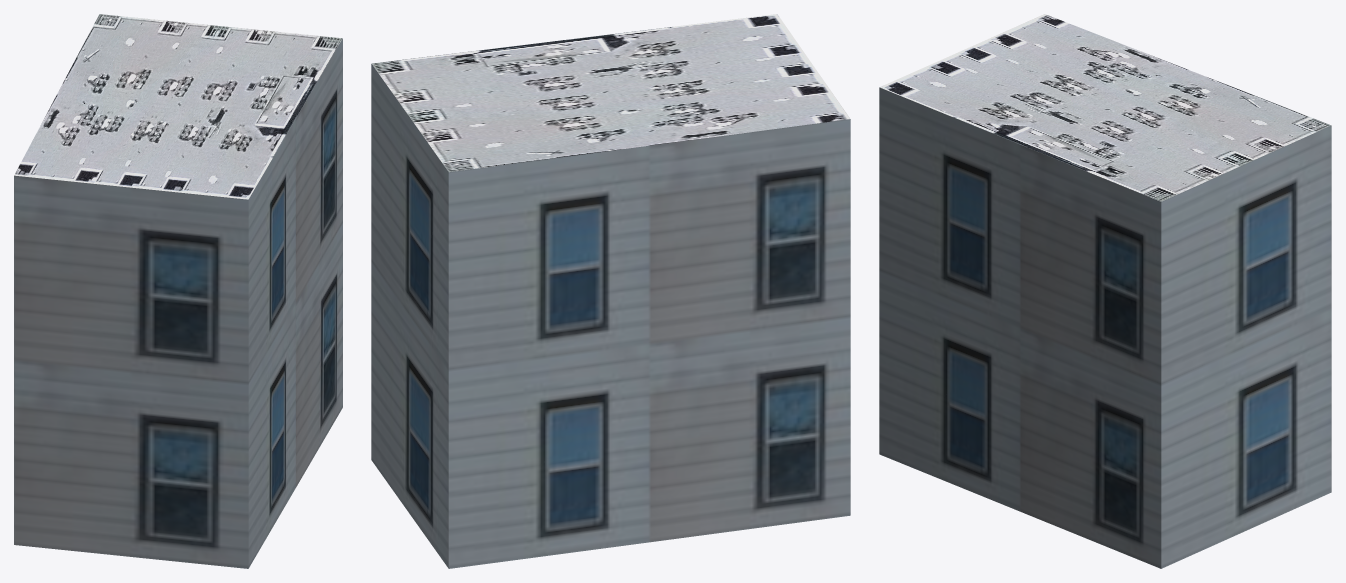
Rendered from ResTex__1747.fbx.
3 renders of one model, left to right at view 1: azimuth 30°, elevation 25°; view 2: azimuth 150°, elevation 25°; view 3: azimuth 270°, elevation 25°, orthographic. The views are drawn at different scales.
Visible parts, largest first — view 1: CityEngineMaterial_18_m, CityEngineMaterial_m; view 2: CityEngineMaterial_18_m, CityEngineMaterial_m; view 3: CityEngineMaterial_18_m, CityEngineMaterial_m.
Part boxes in pixels (x1,y1,x2,y2): CityEngineMaterial_18_m: [14, 38, 342, 568]; CityEngineMaterial_m: [14, 14, 342, 199]; CityEngineMaterial_18_m: [371, 64, 850, 568]; CityEngineMaterial_m: [372, 14, 849, 172]; CityEngineMaterial_18_m: [879, 87, 1331, 568]; CityEngineMaterial_m: [879, 14, 1330, 201].
Bounding box in the file's own units: 6.59 × 6 × 6.7.
2 materials, 2 textured.
